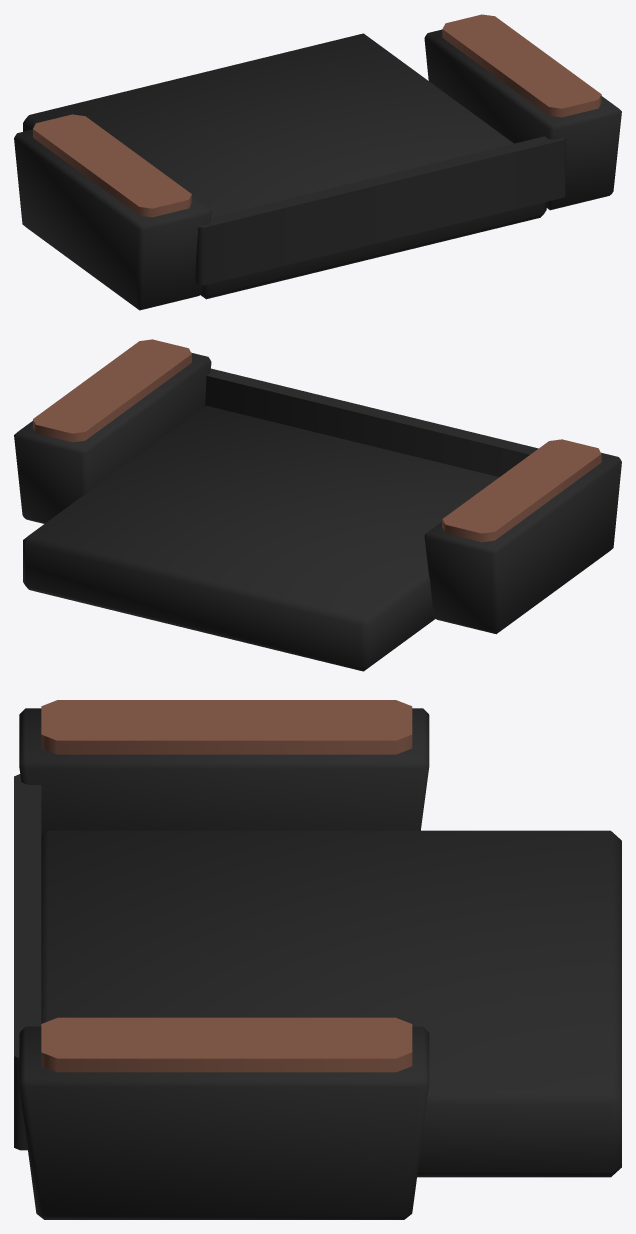
Rendered from Bed 1.fbx.
The picture shows the model from 3 angles, top to bottom: view 1: azimuth 30°, elevation 25°; view 2: azimuth 150°, elevation 25°; view 3: azimuth 270°, elevation 25°; orthographic projection. The views are drawn at different scales.
Parts seen in each view (by area): view 1: bed1, bed1 (Railings); view 2: bed1, bed1 (Railings); view 3: bed1, bed1 (Railings).
Part boxes in pixels (bbox=[...]): bed1: bbox=[23, 33, 565, 299]; bed1 (Railings): bbox=[14, 14, 621, 310]; bed1: bbox=[23, 368, 538, 671]; bed1 (Railings): bbox=[14, 339, 621, 634]; bed1: bbox=[14, 774, 621, 1177]; bed1 (Railings): bbox=[19, 700, 429, 1219].
Bounding box in the file's own units: 608 × 127 × 417.
